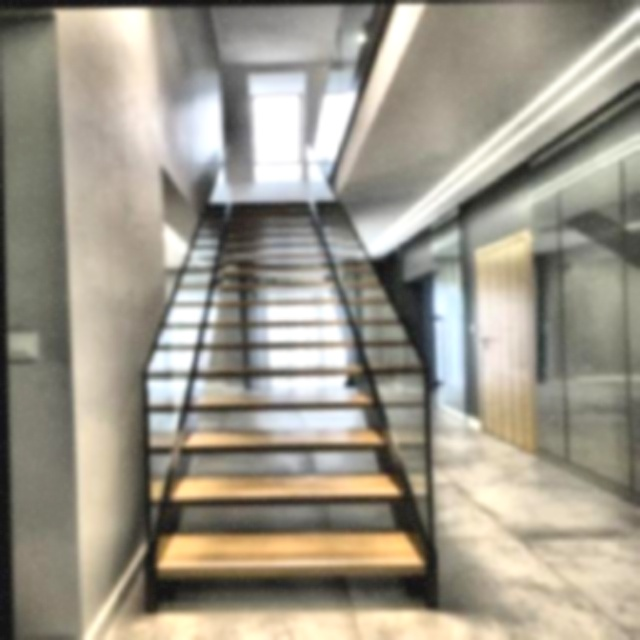stair: (138, 177, 422, 578)
